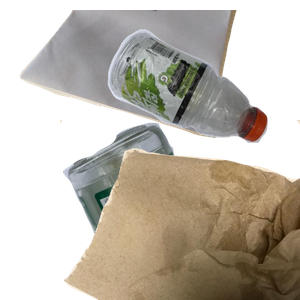glass: (60, 120, 300, 300)
paper: (17, 10, 254, 141)
plastic: (105, 27, 300, 162)
trash: (60, 120, 300, 300)
